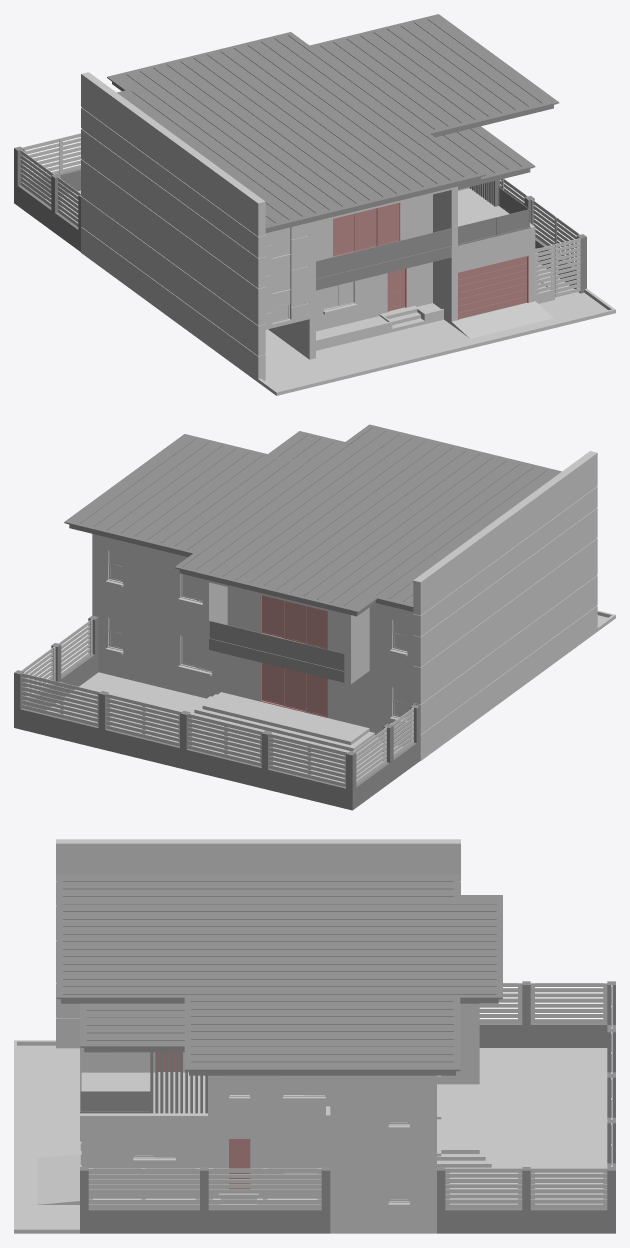
Rendered from house.glb.
The picture shows the model from 3 angles, top to bottom: view 1: azimuth 30°, elevation 25°; view 2: azimuth 150°, elevation 25°; view 3: azimuth 270°, elevation 25°; orthographic projection. The views are drawn at different scales.
Visible parts, largest first — view 1: toit, murs, sol, grilles, portes, MH1_OBJ_03, terasse, mursext, vitres; view 2: murs, toit, grilles, mursext, MH1_OBJ_03, portes, sol, terasse, vitres; view 3: toit, murs, sol, grilles, mursext, MH1_OBJ_03, vitres, terasse, portes.
Boxes of the visible parts, x1,y1,x2,y2 form: toit: (107, 14, 559, 233); murs: (81, 72, 535, 382); sol: (45, 190, 615, 395); grilles: (20, 133, 580, 297); portes: (333, 202, 528, 319); MH1_OBJ_03: (268, 188, 554, 350); terasse: (316, 179, 530, 290); mursext: (14, 146, 586, 293); vitres: (272, 227, 355, 324); murs: (92, 451, 597, 760); toit: (64, 424, 561, 616); grilles: (21, 619, 413, 786); mursext: (14, 615, 420, 810); MH1_OBJ_03: (98, 662, 409, 757); portes: (260, 595, 327, 717); sol: (47, 610, 615, 782); terasse: (209, 621, 344, 682); vitres: (107, 549, 407, 719); toit: (56, 874, 502, 1075); murs: (56, 839, 479, 1221); sol: (14, 1040, 607, 1233); grilles: (80, 983, 612, 1208); mursext: (80, 981, 615, 1233); MH1_OBJ_03: (37, 1068, 491, 1233); vitres: (133, 1075, 409, 1202); terasse: (80, 1051, 207, 1113); portes: (158, 1052, 250, 1189).
Bounding box in the file's own units: 6.64 × 3.18 × 8.47.
